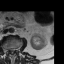CCS_normal: (11, 46, 13, 55)
LFS_stenosis: (15, 46, 17, 51)
LLS_normal: (13, 47, 15, 53)
RFS_severe_stenosis: (7, 46, 9, 52)
RLS_stenosis: (9, 47, 11, 53)
